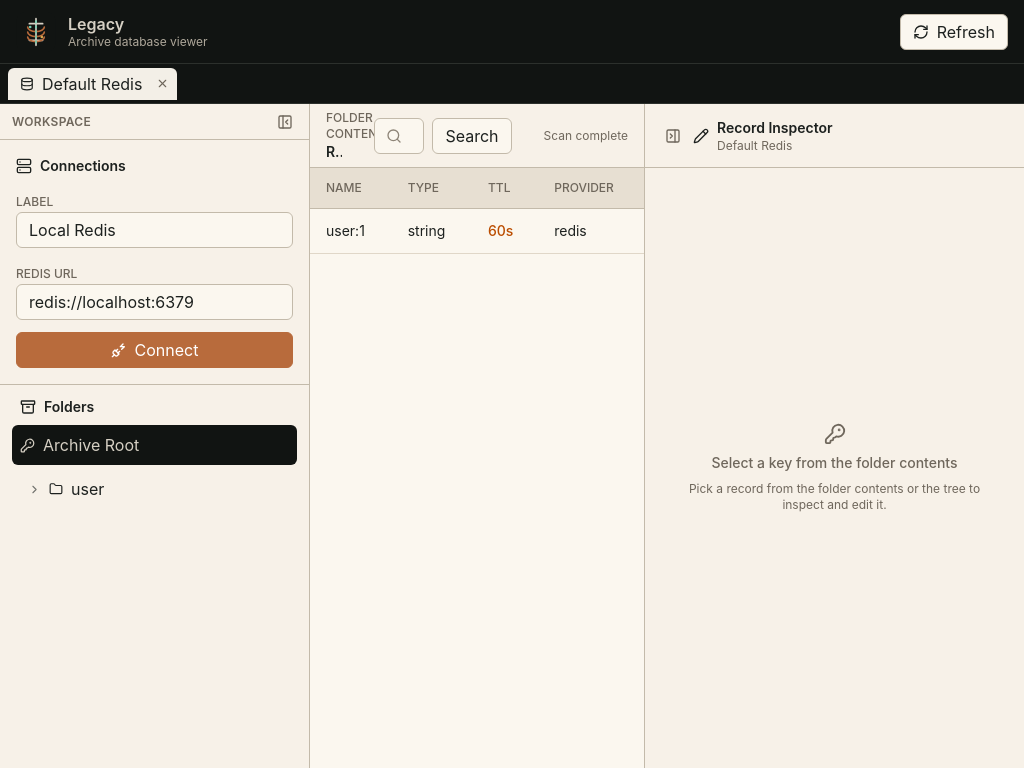
Test case: DatabaseWorkbench › renders connections, resource grid, and selected resource inspector
Check: the element named "Legacy home" is shown, box [16,12,208,52]
Check: the text "Folders" is shown, box [20,397,94,417]
Click the button with aria-label "inspect user:1".
click(351, 231)  # box [310,209,392,253]
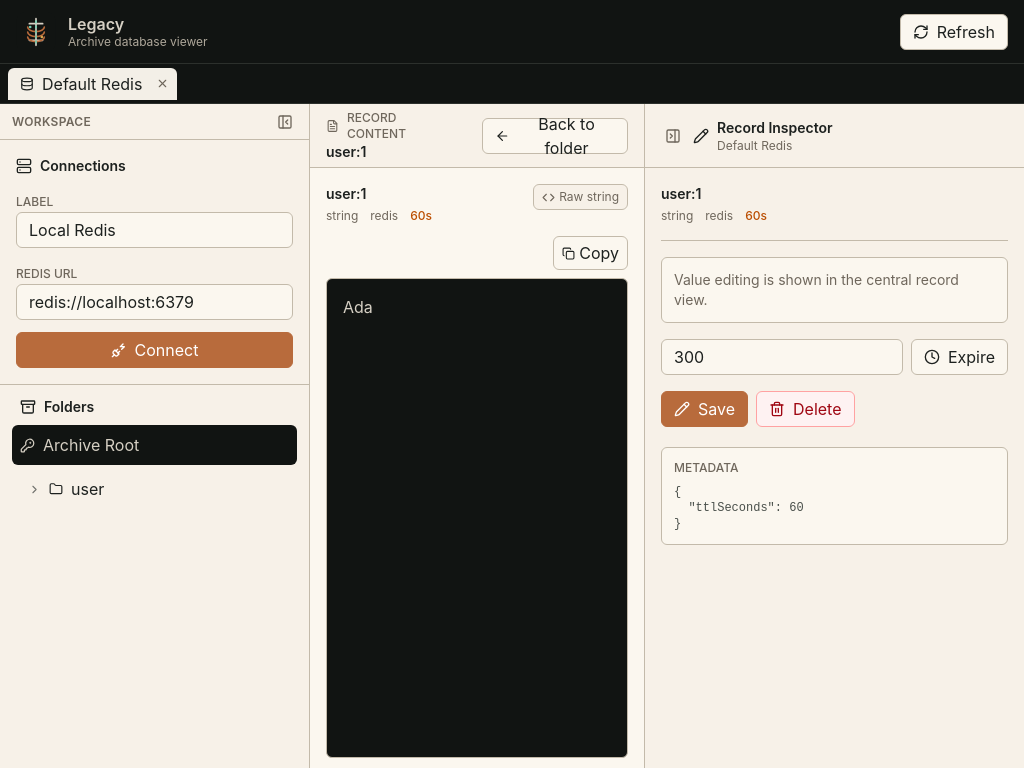
Check: the heading "Record Inspector" is shown, box [717,118,833,138]
Check: the text box showing "Ada" is shown, box [326,278,628,758]
Check: the text "Record content" is shown, box [326,110,406,140]
